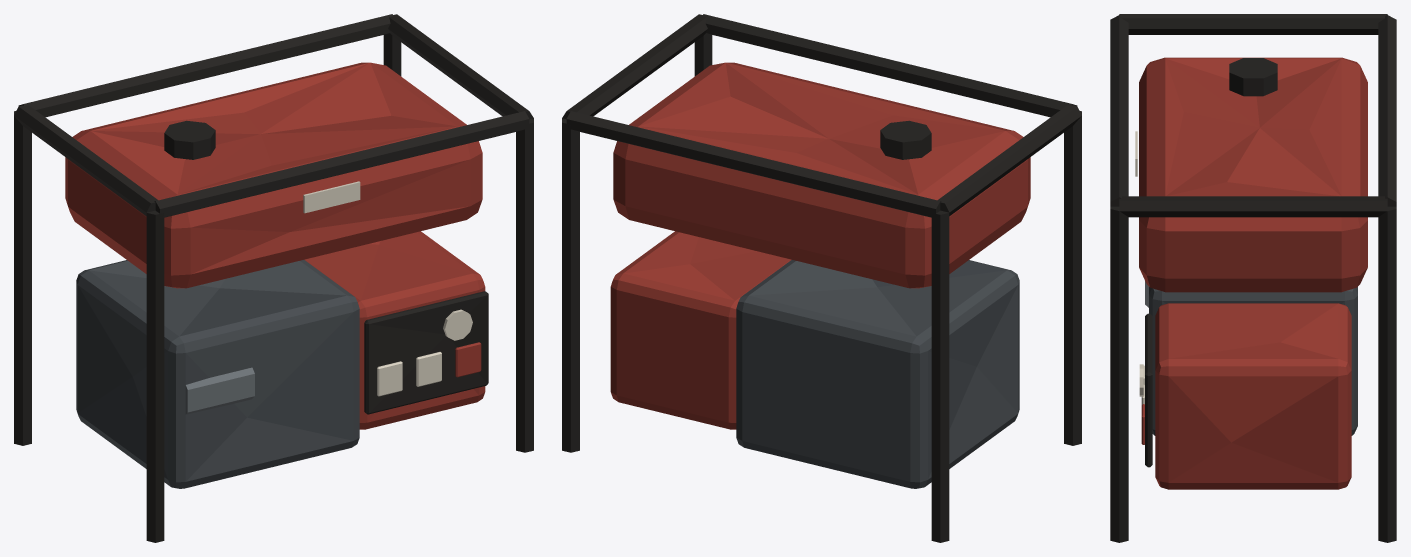
The model's file is fuel_generator_portativnyy_idle.glb.
3 renders of one model, left to right at view 1: azimuth 30°, elevation 25°; view 2: azimuth 150°, elevation 25°; view 3: azimuth 270°, elevation 25°, orthographic.
Visible parts, largest first — view 1: fuel_generator_portativnyy_idle; view 2: fuel_generator_portativnyy_idle; view 3: fuel_generator_portativnyy_idle.
Part boxes in pixels (x1=…): fuel_generator_portativnyy_idle: x1=14, y1=14, x2=533, y2=542; fuel_generator_portativnyy_idle: x1=562, y1=14, x2=1081, y2=542; fuel_generator_portativnyy_idle: x1=1110, y1=14, x2=1396, y2=542.
Size of the model in its own units: 0.692 by 0.576 by 0.4377.
Materials: 1 (1 with a texture image).
